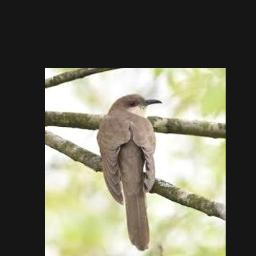Cuckoo: (97, 94, 162, 251)
